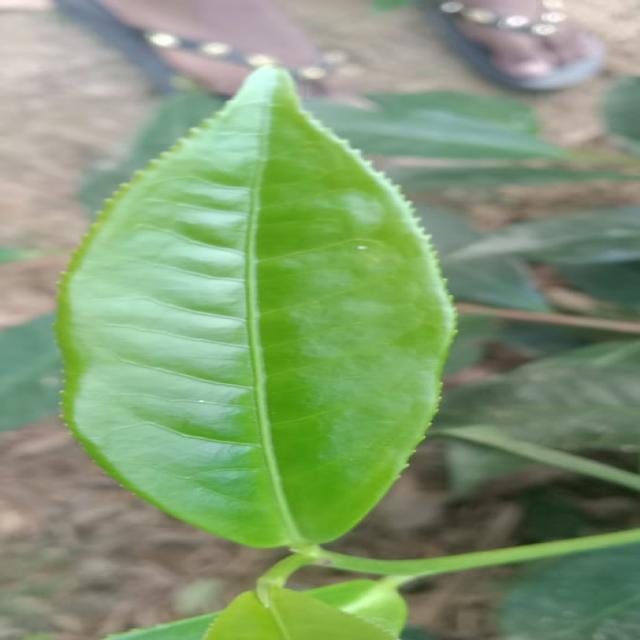Category B(2-4 days): (41, 61, 463, 563)
